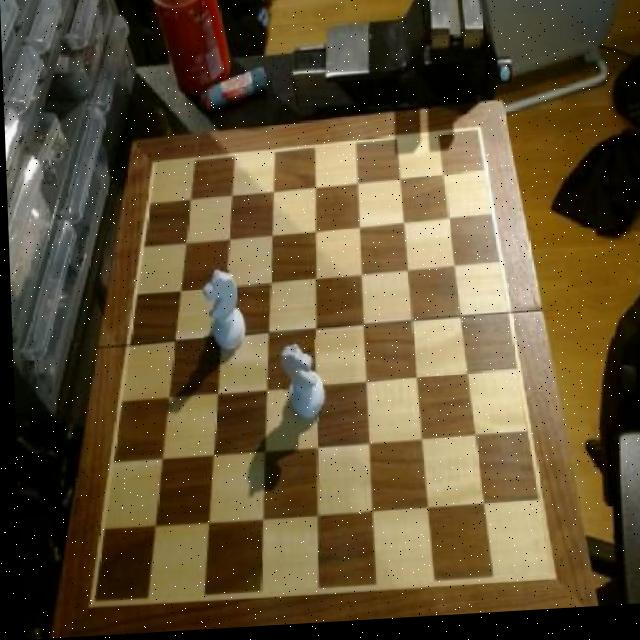white-king: (278, 344, 325, 429), (199, 271, 245, 356)
